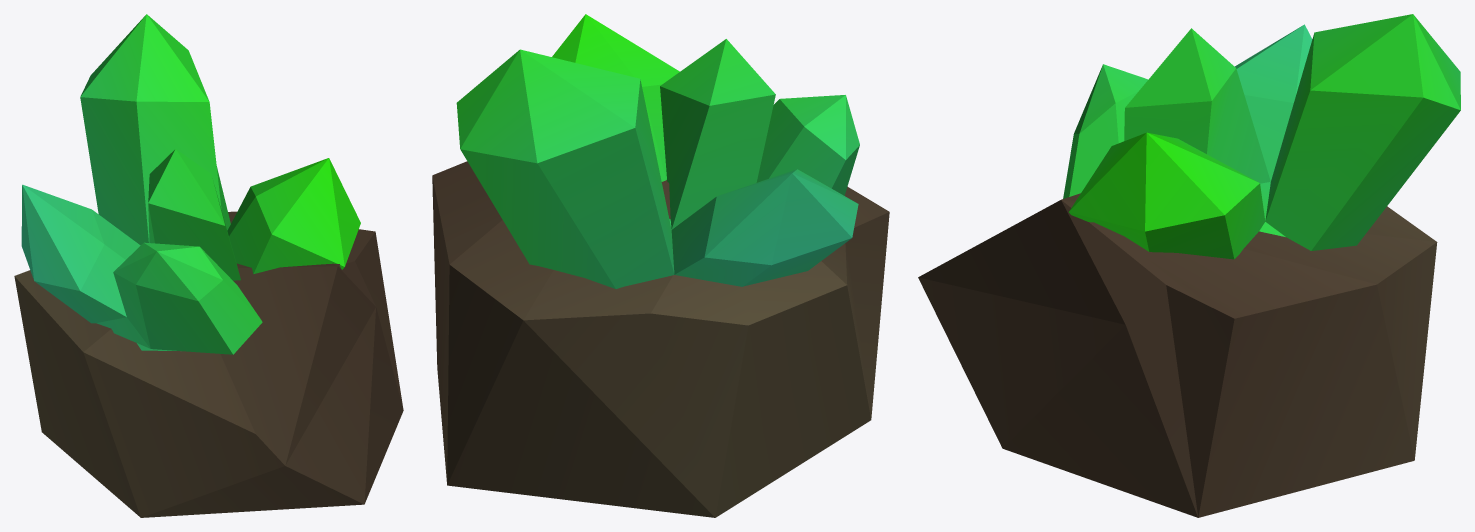
The model's file is Oceanstone Gem.fbx.
3 renders of one model, left to right at view 1: azimuth 30°, elevation 25°; view 2: azimuth 150°, elevation 25°; view 3: azimuth 270°, elevation 25°, orthographic. The views are drawn at different scales.
Visible parts, largest first — view 1: OCEANSTONE GEM.001; view 2: OCEANSTONE GEM.001; view 3: OCEANSTONE GEM.001.
Boxes of the visible parts, x1,y1,x2,y2 form: OCEANSTONE GEM.001: [14, 14, 403, 517]; OCEANSTONE GEM.001: [432, 14, 889, 517]; OCEANSTONE GEM.001: [918, 14, 1460, 517].
Size of the model in its own units: 177 by 175 by 208.
Materials: 1 (1 with a texture image).
